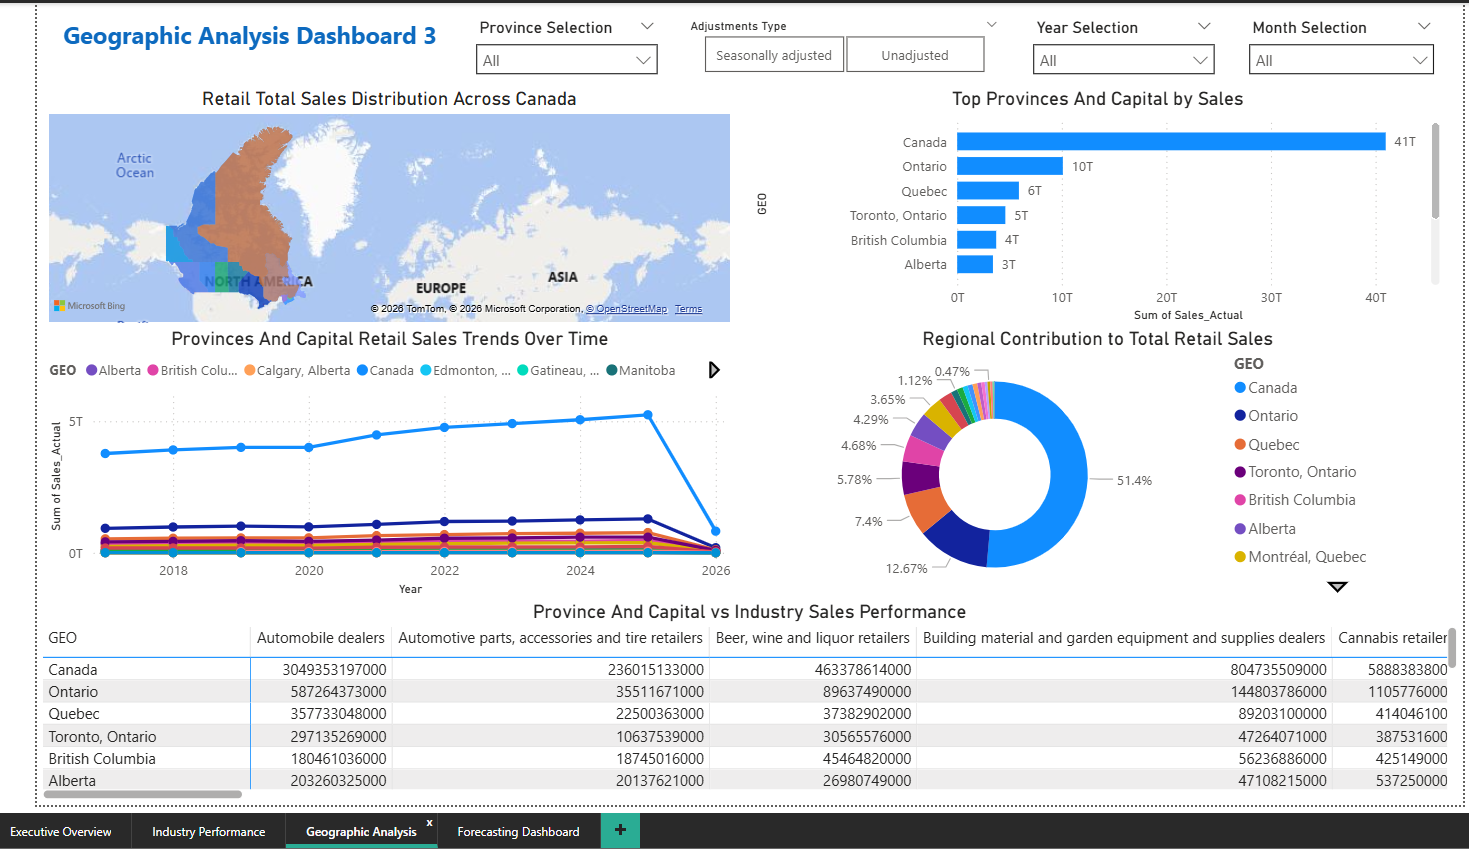

The page's visual inventory and layout, read from the dashboard file:
{"tool":"powerbi","page":{"name":"Geographic Analysis ","canvas":[1280,720],"ordinal":2},"visuals":[{"type":"slicer","fields":{"Values":["retail_sales_cleaned.Year"]},"box":[884.1,8.6,182.9,60.4],"z":0},{"type":"slicer","fields":{"Values":["retail_sales_cleaned.Month_Name"]},"box":[1078.2,8.6,186.3,60.4],"z":1000},{"type":"slicer","fields":{"Values":["retail_sales_cleaned.Adjustments"]},"box":[573.6,8.6,301,60.4],"z":2000},{"type":"lineChart","title":"Provinces And Capital Retail Sales Trends Over Time","fields":{"Category":["retail_sales_cleaned.Year"],"Series":["retail_sales_cleaned.GEO"],"Y":["Sum(retail_sales_cleaned.Sales_Actual)"]},"box":[6,290.7,621,245.8],"z":3000},{"type":"donutChart","title":"Regional Contribution to Total Retail Sales","fields":{"Category":["retail_sales_cleaned.GEO"],"Y":["Sum(retail_sales_cleaned.Sales_Actual)"]},"box":[640,290.7,624.5,245.8],"z":4000},{"type":"filledMap","title":"Retail Total Sales Distribution Across Canada","fields":{"Category":["retail_sales_cleaned.GEO"],"Series":["retail_sales_cleaned.GEO"]},"box":[5.2,75,621.9,215.6],"z":5000},{"type":"clusteredBarChart","title":"Top Provinces And Capital by Sales","fields":{"Y":["Sum(retail_sales_cleaned.Sales_Actual)"],"Category":["retail_sales_cleaned.GEO"]},"box":[640,75,624.5,215.6],"z":6000},{"type":"pivotTable","title":"Province And Capital vs Industry Sales Performance","fields":{"Rows":["retail_sales_cleaned.GEO"],"Columns":["retail_sales_cleaned.Industry"],"Values":["Sum(retail_sales_cleaned.Sales_Actual)"]},"box":[0,536.2,1279.6,183.8],"z":7000},{"type":"slicer","fields":{"Values":["retail_sales_cleaned.GEO"]},"box":[383.8,8.6,182.9,60.4],"z":8000},{"type":"textbox","box":[6.3,9,369.9,66.4],"z":8001}]}

Visuals, with their boxes on the page's 1280x720 design canvas (x1, y1, x2, y2). These are canvas units, not pixel positions in the 1469x849 screenshot, which may show the page scaled, cropped or inside an application window:
slicer - retail_sales_cleaned.Year: (884, 9, 1067, 69)
slicer - retail_sales_cleaned.Month_Name: (1078, 9, 1264, 69)
slicer - retail_sales_cleaned.Adjustments: (574, 9, 875, 69)
"Provinces And Capital Retail Sales Trends Over Time" lineChart: (6, 291, 627, 536)
"Regional Contribution to Total Retail Sales" donutChart: (640, 291, 1264, 536)
"Retail Total Sales Distribution Across Canada" filledMap: (5, 75, 627, 291)
"Top Provinces And Capital by Sales" clusteredBarChart: (640, 75, 1264, 291)
"Province And Capital vs Industry Sales Performance" pivotTable: (0, 536, 1280, 720)
slicer - retail_sales_cleaned.GEO: (384, 9, 567, 69)
textbox: (6, 9, 376, 75)
